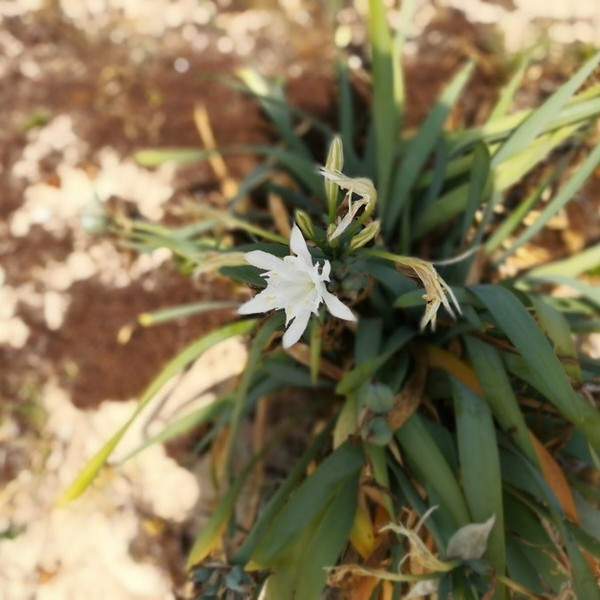obstacle: (176, 76, 555, 553)
